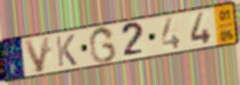2: (119, 21, 149, 61)
4: (189, 11, 214, 47), (161, 16, 182, 52)
G: (88, 25, 118, 65)
K: (54, 33, 79, 69)
V: (22, 35, 52, 75)
